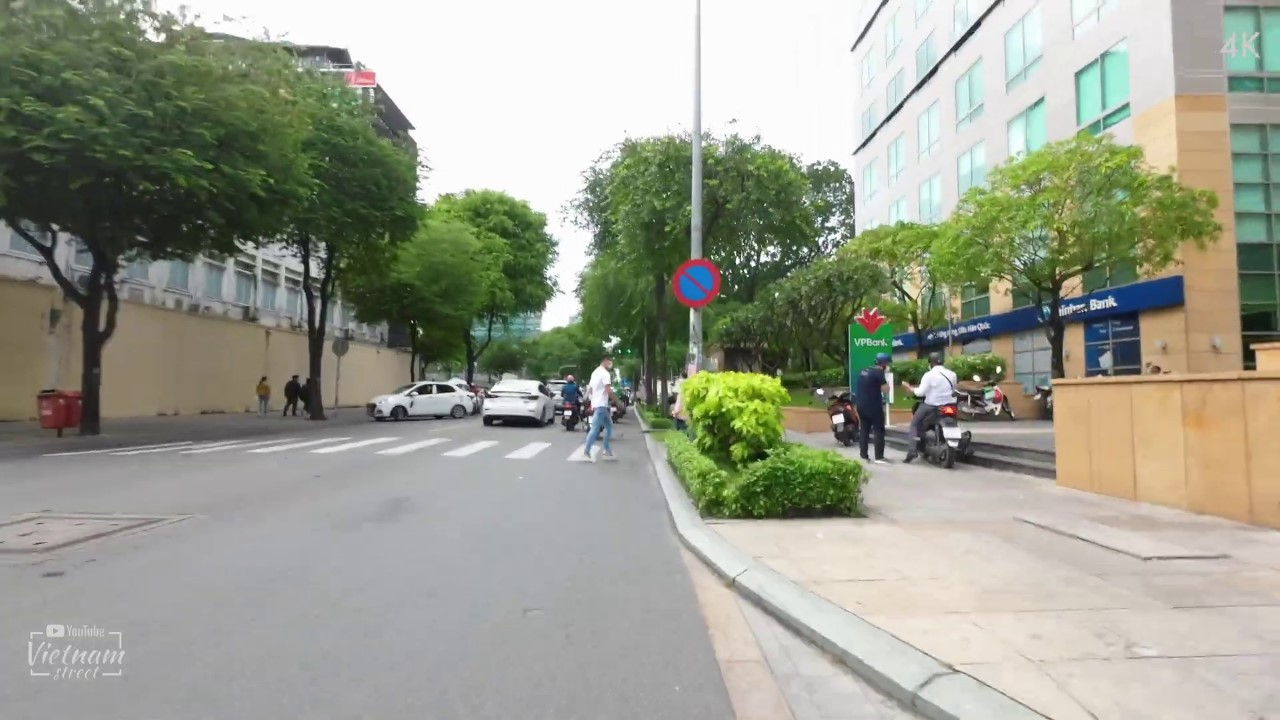cam_do_xe: (670, 258, 721, 307)
